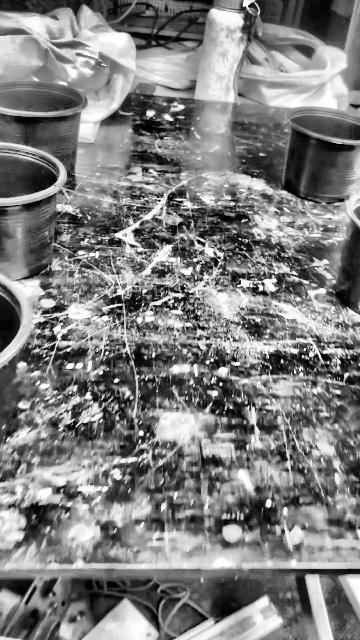pot: (0, 81, 87, 195), (0, 143, 66, 280), (284, 108, 360, 204), (0, 275, 31, 441), (336, 195, 359, 314)
